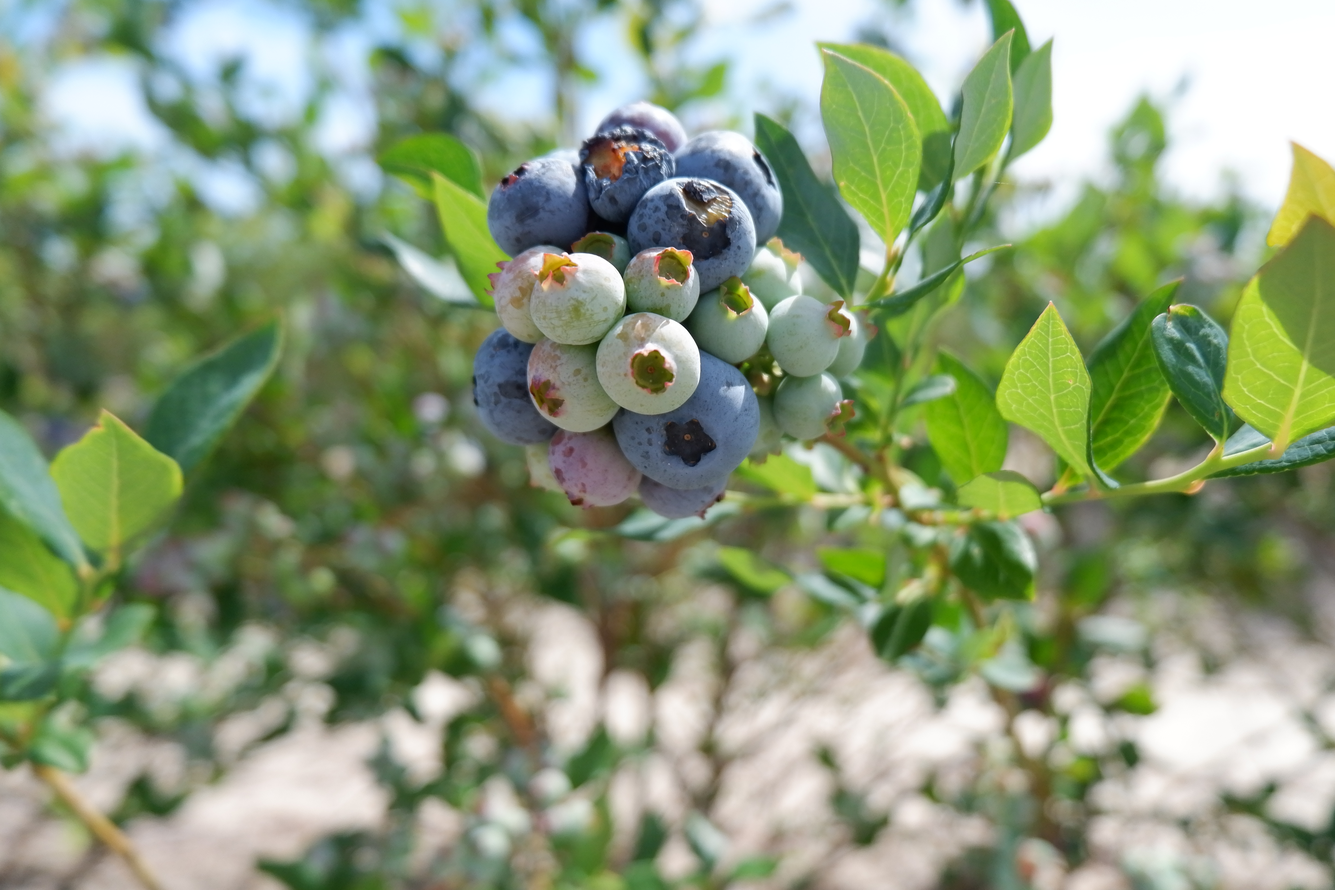Immature: (600, 316, 699, 411), (530, 254, 623, 341), (529, 339, 614, 430), (547, 425, 638, 506), (689, 280, 767, 359), (770, 297, 849, 374), (493, 251, 555, 339), (626, 247, 697, 319), (775, 374, 846, 439), (741, 238, 803, 311), (597, 104, 686, 153), (831, 310, 875, 378), (572, 232, 629, 270), (798, 260, 844, 303), (752, 396, 782, 460)
Mature: (617, 353, 755, 489), (630, 177, 757, 287), (675, 129, 781, 244), (490, 156, 596, 253), (582, 133, 674, 228), (475, 331, 552, 442), (640, 477, 724, 518)
